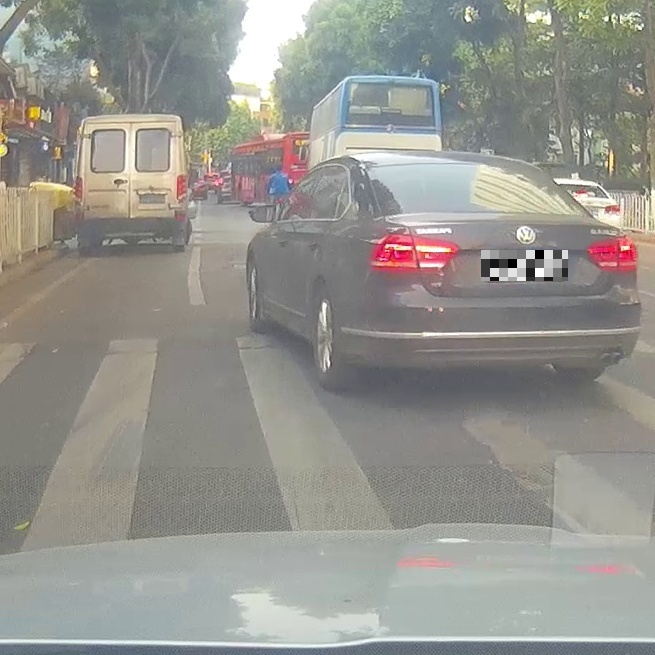L_light: (366, 231, 459, 275), (74, 175, 84, 204)
R_light: (584, 234, 639, 271), (176, 174, 188, 203)
T_light: (476, 204, 514, 215), (125, 115, 137, 121)
day-left: (359, 151, 642, 395)
day-no: (73, 113, 190, 254)
plate_1: (481, 250, 568, 281)
